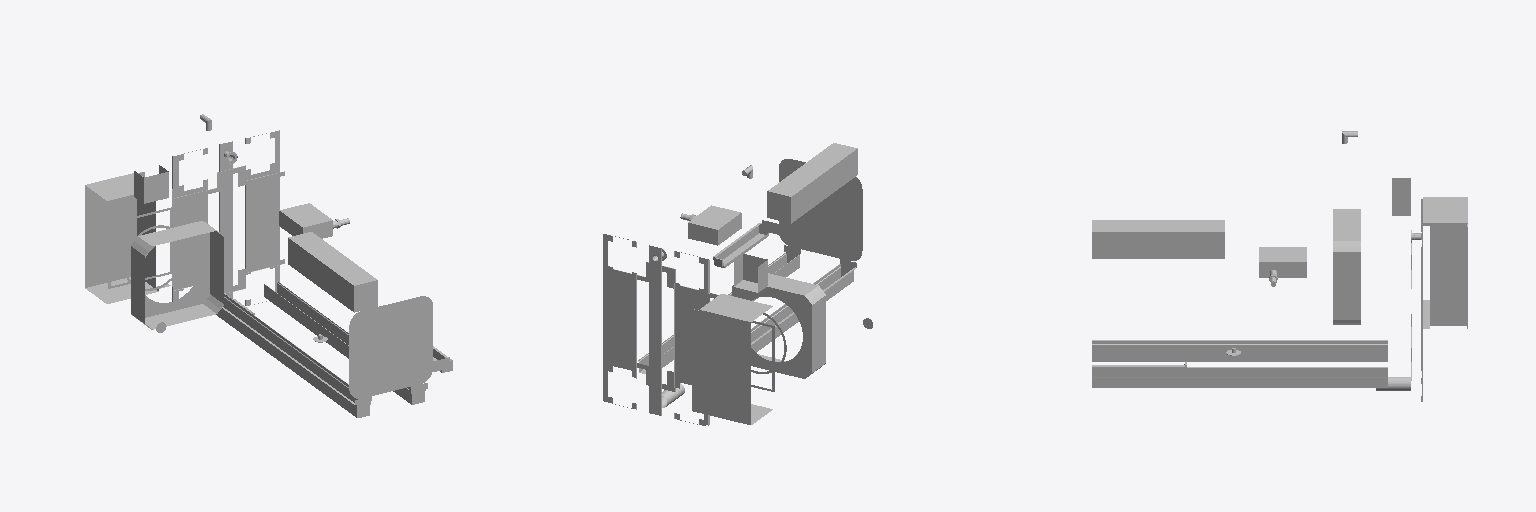
The model's file is a2_cut_0__3_1.obj.
3 views of the same model, side by side, from view 1: azimuth 30°, elevation 25°; view 2: azimuth 150°, elevation 25°; view 3: azimuth 270°, elevation 25° (orthographic).
Parts seen in each view (by area): view 1: 0; view 2: 0; view 3: 0.
Boxes of the visible parts, box(x1,y1,x2,y2) form: 0: box(85, 114, 452, 417); 0: box(603, 143, 872, 425); 0: box(1092, 131, 1467, 401).
Size of the model in its own units: 489 by 533 by 775.